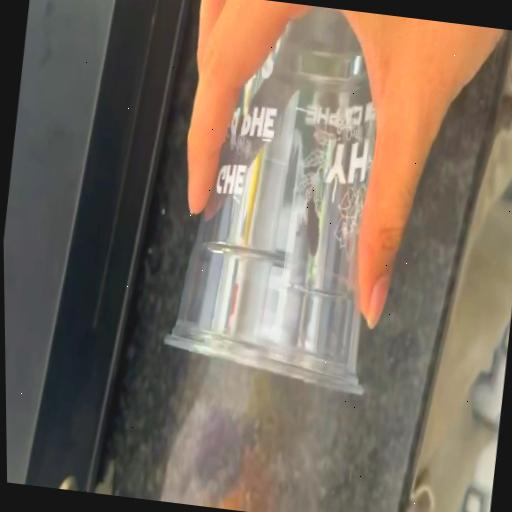ly_nhua: (166, 7, 375, 390)
